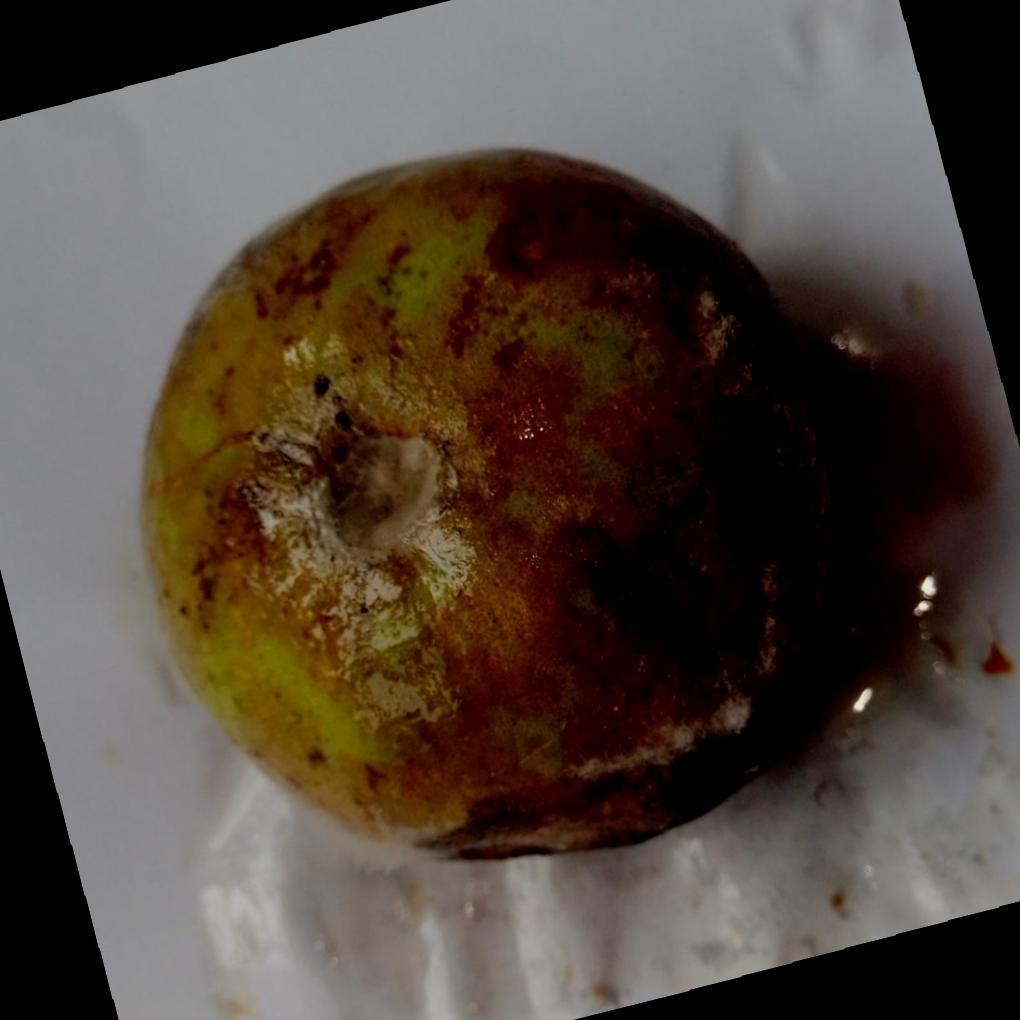FreshOrange: (135, 141, 864, 860)
